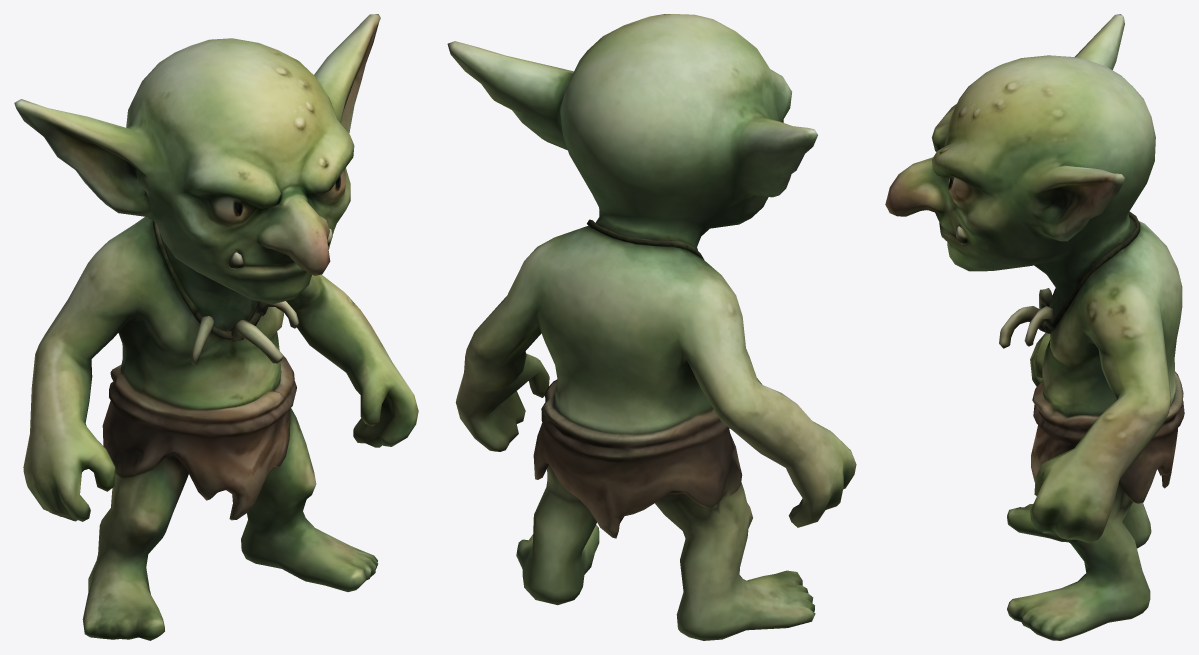
Rendered from goblin.glb.
3 renders of one model, left to right at view 1: azimuth 30°, elevation 25°; view 2: azimuth 150°, elevation 25°; view 3: azimuth 270°, elevation 25°, orthographic. The views are drawn at different scales.
Visible parts, largest first — view 1: tripo_node_7031c1a7-f0e9-4149-89ae-9e43dcd5da63; view 2: tripo_node_7031c1a7-f0e9-4149-89ae-9e43dcd5da63; view 3: tripo_node_7031c1a7-f0e9-4149-89ae-9e43dcd5da63.
Part boxes in pixels (x1=…): tripo_node_7031c1a7-f0e9-4149-89ae-9e43dcd5da63: x1=14, y1=14, x2=418, y2=640; tripo_node_7031c1a7-f0e9-4149-89ae-9e43dcd5da63: x1=447, y1=14, x2=856, y2=640; tripo_node_7031c1a7-f0e9-4149-89ae-9e43dcd5da63: x1=885, y1=14, x2=1184, y2=640.
Size of the model in its own units: 0.6973 by 0.998 by 0.5293.
Materials: 1 (1 with a texture image).
